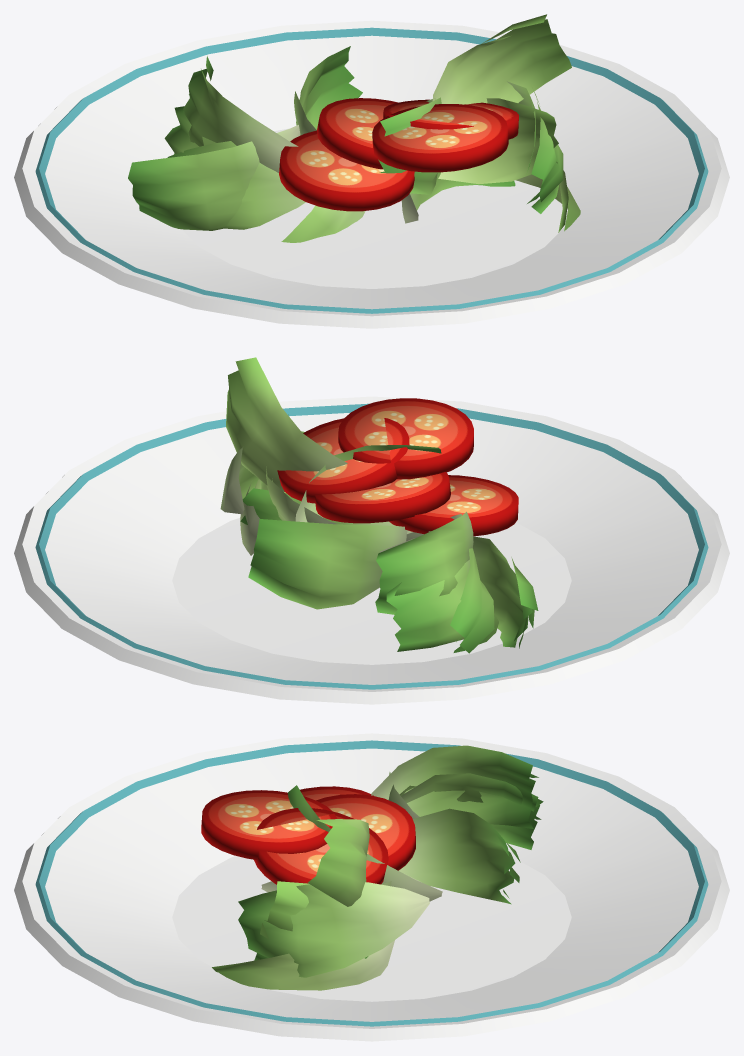
File: kr_dish_salad.glb
3 renders of one model, top to bottom at view 1: azimuth 30°, elevation 25°; view 2: azimuth 150°, elevation 25°; view 3: azimuth 270°, elevation 25°, orthographic.
Parts seen in each view (by area): view 1: vc_m0_r2, vc_m0_r4, kr_dish_salad_f_tomslice; view 2: vc_m0_r2, vc_m0_r4, kr_dish_salad_f_tomslice; view 3: vc_m0_r2, vc_m0_r4, kr_dish_salad_f_tomslice.
Part boxes in pixels (x1=…): vc_m0_r2: x1=14, y1=20, x2=729, y2=328; vc_m0_r4: x1=35, y1=14, x2=708, y2=313; kr_dish_salad_f_tomslice: x1=279, y1=98, x2=518, y2=211; vc_m0_r2: x1=14, y1=396, x2=729, y2=704; vc_m0_r4: x1=35, y1=357, x2=708, y2=689; kr_dish_salad_f_tomslice: x1=277, y1=398, x2=518, y2=536; vc_m0_r2: x1=14, y1=733, x2=729, y2=1041; vc_m0_r4: x1=35, y1=740, x2=708, y2=1026; kr_dish_salad_f_tomslice: x1=201, y1=786, x2=415, y2=884.
Size of the model in its own units: 0.43 by 0.1698 by 0.43.
3 materials, 1 textured.
